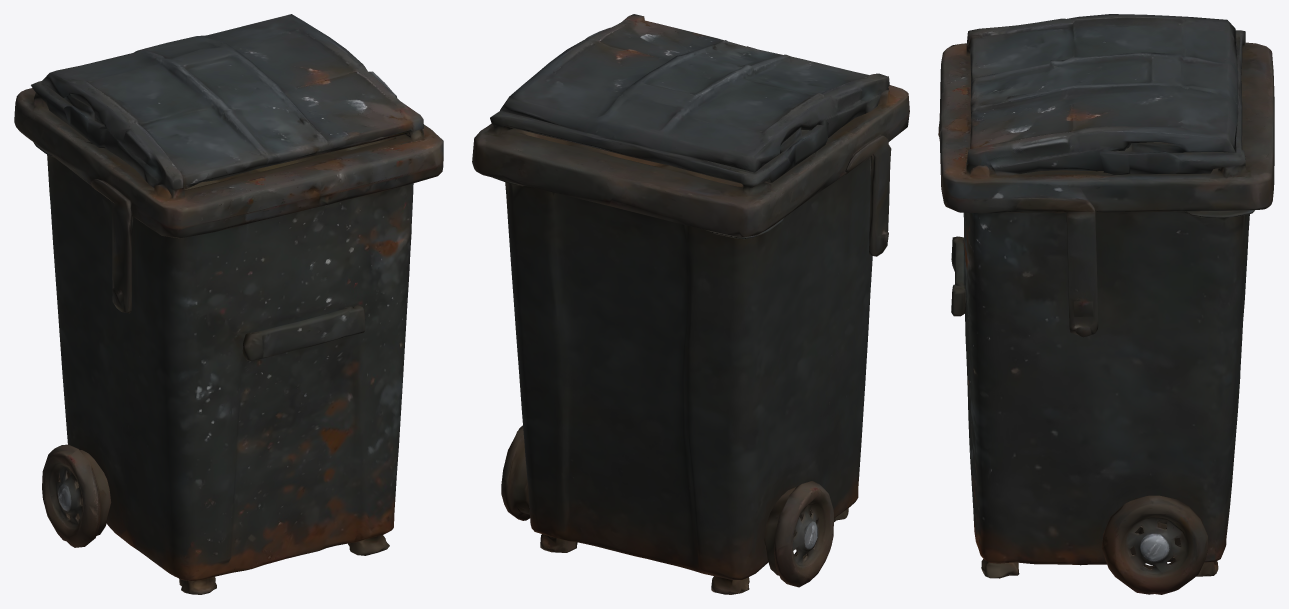
The model's file is dumpster.glb.
The picture shows the model from 3 angles, left to right: view 1: azimuth 30°, elevation 25°; view 2: azimuth 150°, elevation 25°; view 3: azimuth 270°, elevation 25°; orthographic projection.
Parts seen in each view (by area): view 1: tripo_node_3d6b83eb-bfa1-4aa3-baa4-e00de320820c; view 2: tripo_node_3d6b83eb-bfa1-4aa3-baa4-e00de320820c; view 3: tripo_node_3d6b83eb-bfa1-4aa3-baa4-e00de320820c.
Part boxes in pixels (x1,y1,x2,y2): tripo_node_3d6b83eb-bfa1-4aa3-baa4-e00de320820c: [14, 14, 443, 594]; tripo_node_3d6b83eb-bfa1-4aa3-baa4-e00de320820c: [472, 14, 909, 594]; tripo_node_3d6b83eb-bfa1-4aa3-baa4-e00de320820c: [938, 14, 1274, 594].
Bounding box in the file's own units: 0.6959 × 1 × 0.6623.
1 material, 1 textured.
